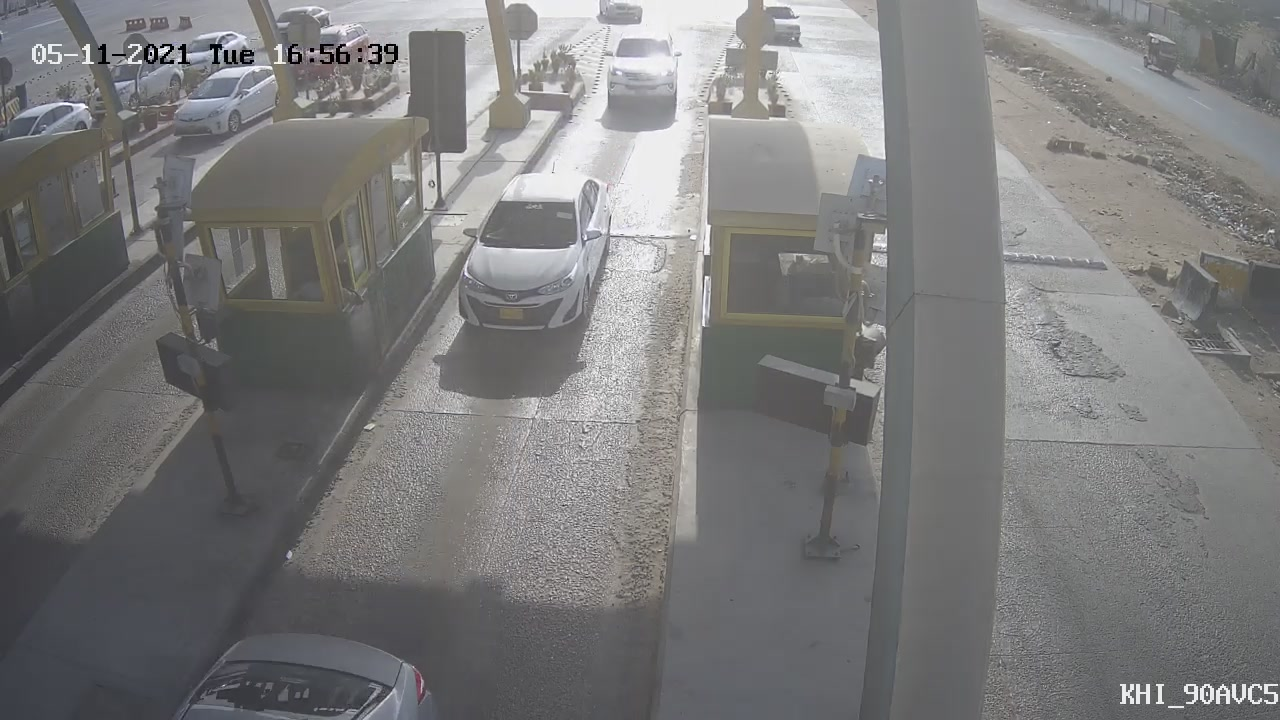F1: (433, 149, 631, 360)
